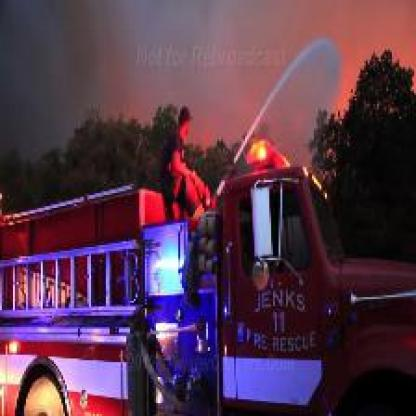other: (234, 130, 294, 172)
